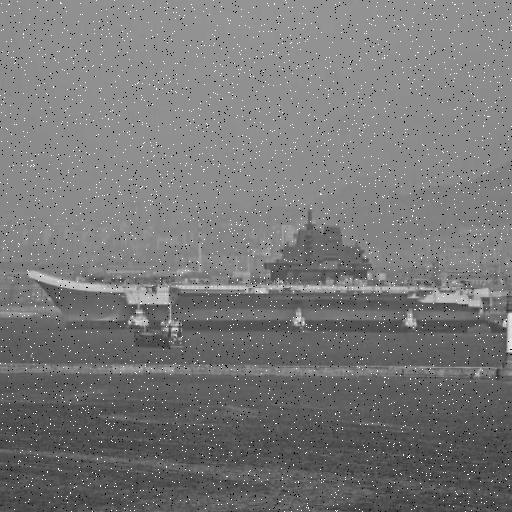Portanaves: (25, 201, 487, 342)
